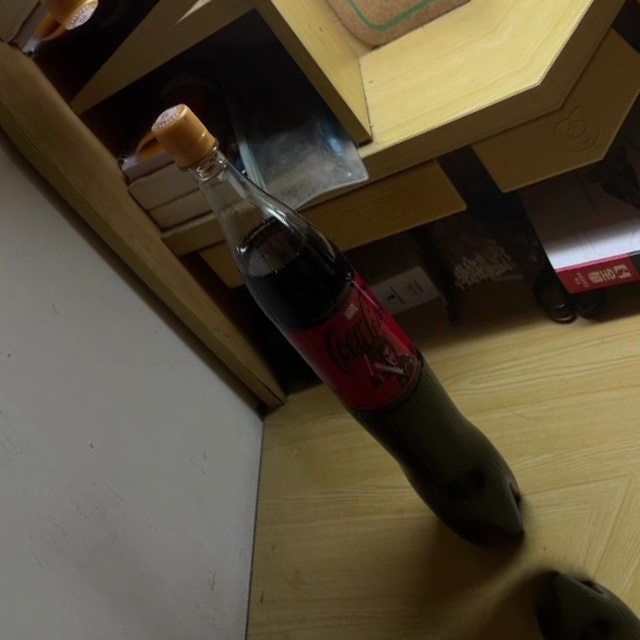Coca-Cola: (122, 83, 550, 568)
